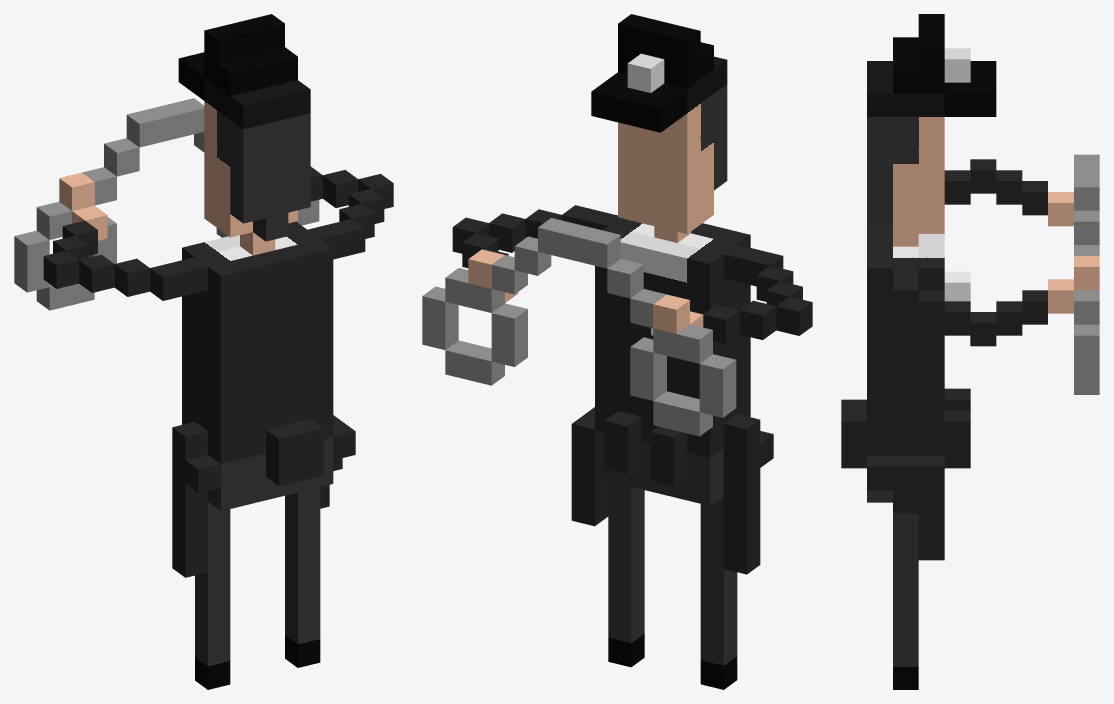
File: Police2.dae
The picture shows the model from 3 angles, left to right: view 1: azimuth 30°, elevation 25°; view 2: azimuth 150°, elevation 25°; view 3: azimuth 270°, elevation 25°; orthographic projection. The views are drawn at different scales.
Visible parts, largest first — view 1: Person1; view 2: Person1; view 3: Person1.
Boxes of the visible parts, box(x1,y1,x2,y2) form: Person1: box(14, 14, 393, 689); Person1: box(422, 14, 812, 689); Person1: box(841, 14, 1099, 689).
Bounding box in the file's own units: 15 × 27 × 10.
1 material, 1 textured.
